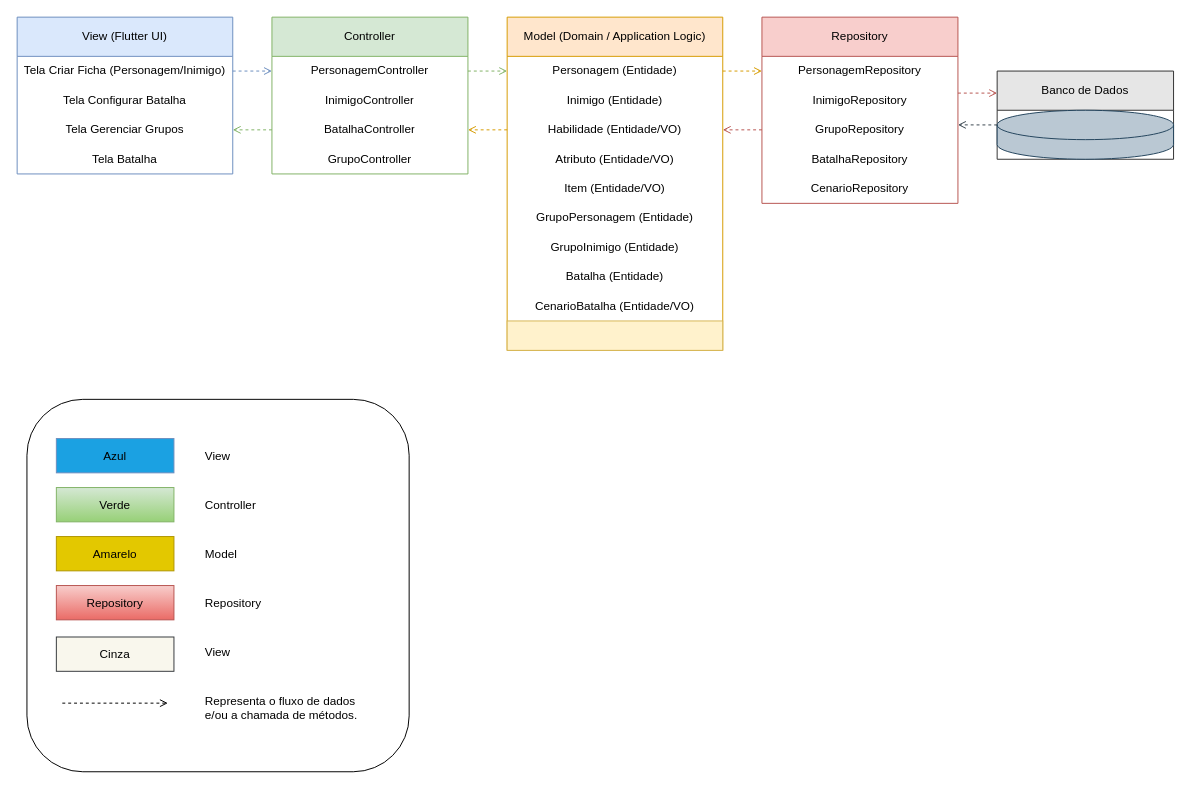
The diagram is 1191 pixels wide and 789 high, and some of its shapes have lost their labels. The centre of each missing label's shape, as x and y in pixels:
"ServiçoBatalha (Application Service)" belongs at (x=614, y=335).
"SQLite Database" belongs at (x=1085, y=134).
